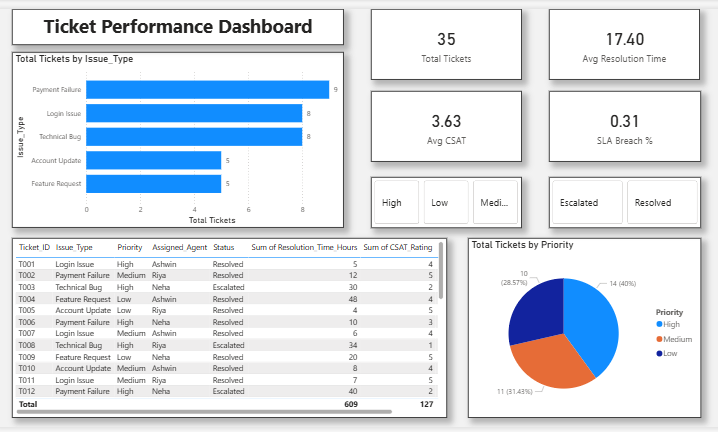

The page's visual inventory and layout, read from the dashboard file:
{"tool":"powerbi","page":{"name":"Page 1","canvas":[1280,720],"ordinal":0},"visuals":[{"type":"card","fields":{"Values":["tickets.Total Tickets"]},"box":[655.2,0,260.3,122.4],"z":0},{"type":"card","fields":{"Values":["tickets.Avg Resolution Time"]},"box":[962.1,0,260.3,122.4],"z":1000},{"type":"card","fields":{"Values":["tickets.Avg CSAT"]},"box":[655.2,141.4,260.3,122.4],"z":2000},{"type":"card","fields":{"Values":["tickets.SLA Breach %"]},"box":[962.1,141.4,262.1,122.4],"z":3000},{"type":"barChart","fields":{"Category":["tickets.Issue_Type"],"Y":["tickets.Total Tickets"]},"box":[36.2,74.1,572.4,303.4],"z":4000},{"type":"pieChart","fields":{"Category":["tickets.Priority"],"Y":["tickets.Total Tickets"]},"box":[822.4,394.8,401.7,310.3],"z":5000},{"type":"tableEx","fields":{"Values":["tickets.Ticket_ID","tickets.Issue_Type","tickets.Priority","tickets.Assigned_Agent","tickets.Status","Sum(tickets.Resolution_Time_Hours)","Sum(tickets.CSAT_Rating)","tickets.SLA_Breached"]},"box":[36.2,394.8,750,310.3],"z":6000},{"type":"advancedSlicerVisual","fields":{"Values":["tickets.Priority"]},"box":[655.2,289.7,260.3,87.9],"z":7000},{"type":"advancedSlicerVisual","fields":{"Values":["tickets.Status"]},"box":[962.1,289.7,262.1,87.9],"z":8000},{"type":"textbox","box":[36.2,0,572.4,62.1],"z":9000}]}

Visuals, with their boxes in screenshot pixels (x1, y1, x2, y2):
card - tickets.Total Tickets: left=370, top=9, right=519, bottom=80
card - tickets.Avg Resolution Time: left=546, top=9, right=695, bottom=80
card - tickets.Avg CSAT: left=370, top=90, right=519, bottom=161
card - tickets.SLA Breach %: left=546, top=90, right=696, bottom=161
barChart - tickets.Issue_Type x tickets.Total Tickets: left=15, top=52, right=343, bottom=226
pieChart - tickets.Priority x tickets.Total Tickets: left=466, top=236, right=696, bottom=414
tableEx - tickets.Ticket_ID x tickets.Issue_Type: left=15, top=236, right=445, bottom=414
advancedSlicerVisual - tickets.Priority: left=370, top=175, right=519, bottom=226
advancedSlicerVisual - tickets.Status: left=546, top=175, right=696, bottom=226
textbox: left=15, top=9, right=343, bottom=45
